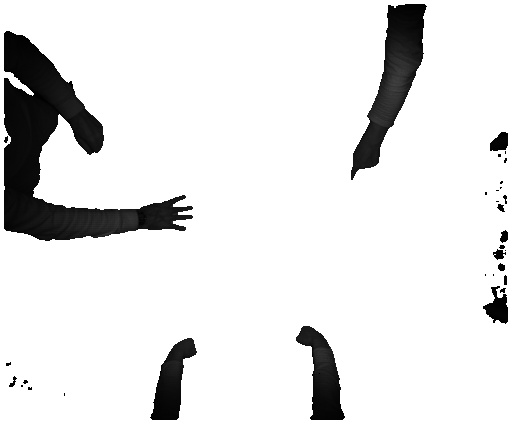fist: (75, 116, 103, 159), (296, 320, 325, 350), (171, 336, 199, 362)
hand: (142, 192, 199, 231), (344, 134, 387, 183)
